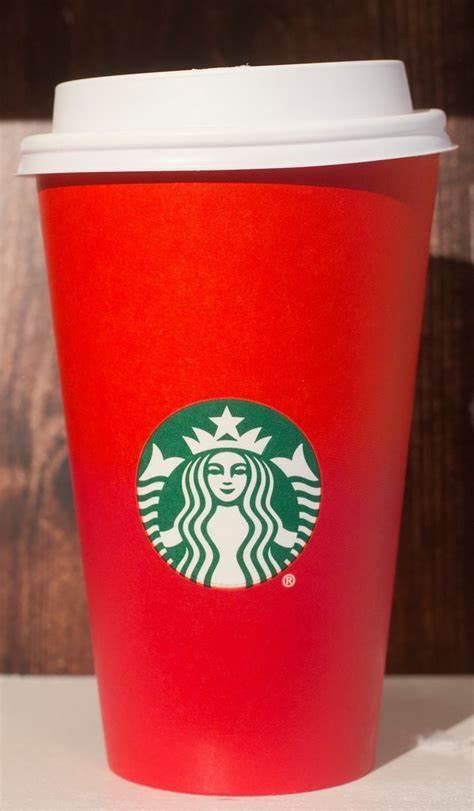starbucks Originale: (129, 394, 331, 604)
